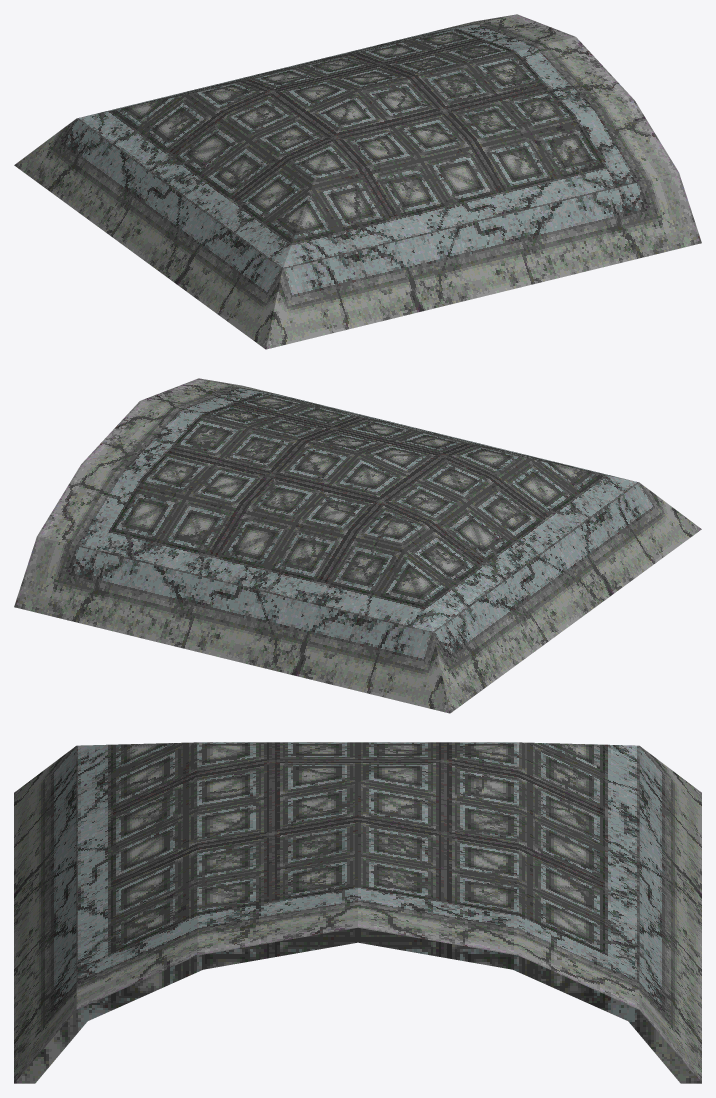
File: roof_set2_01.gltf
3 views of the same model, one above another, from view 1: azimuth 30°, elevation 25°; view 2: azimuth 150°, elevation 25°; view 3: azimuth 270°, elevation 25° (orthographic). The views are drawn at different scales.
Visible parts, largest first — view 1: roof_set2_01; view 2: roof_set2_01; view 3: roof_set2_01.
Boxes of the visible parts, x1=… form: roof_set2_01: x1=14, y1=14, x2=701, y2=349; roof_set2_01: x1=14, y1=378, x2=701, y2=713; roof_set2_01: x1=14, y1=742, x2=701, y2=1083.
Bounding box in the file's own units: 4 × 1 × 4.
1 material, 1 textured.
